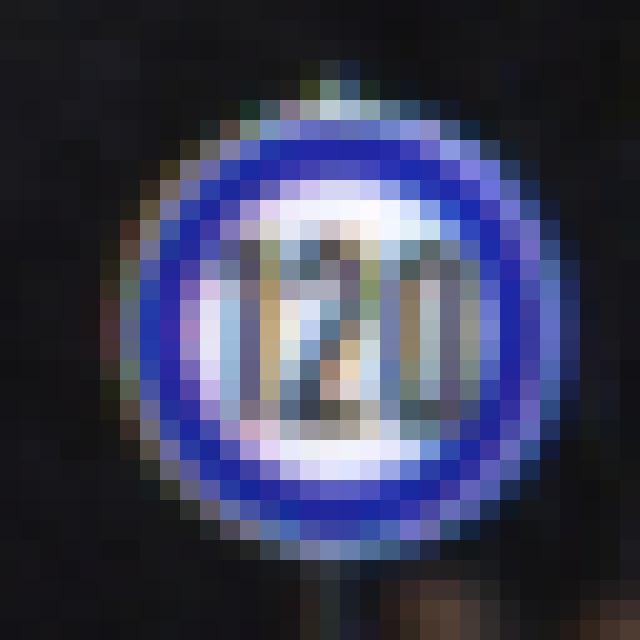SPEED LIMIT 120: (107, 84, 576, 562)
